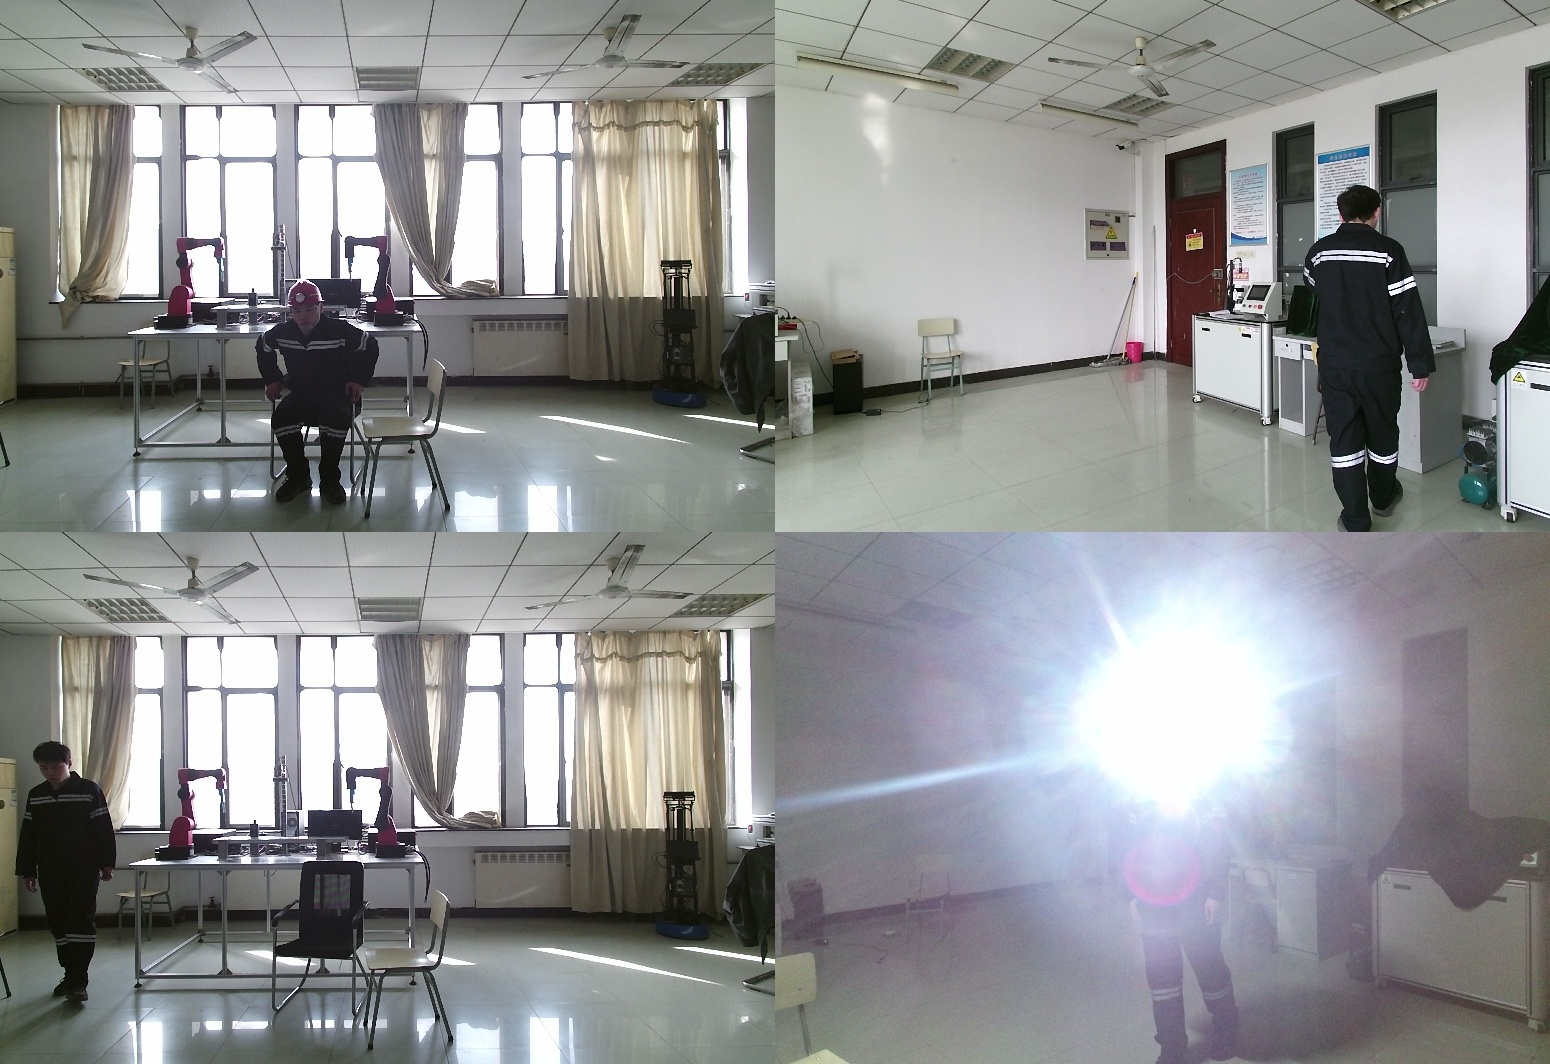person: (1299, 189, 1450, 532), (1125, 708, 1249, 1064), (256, 281, 386, 503), (16, 741, 120, 997)
